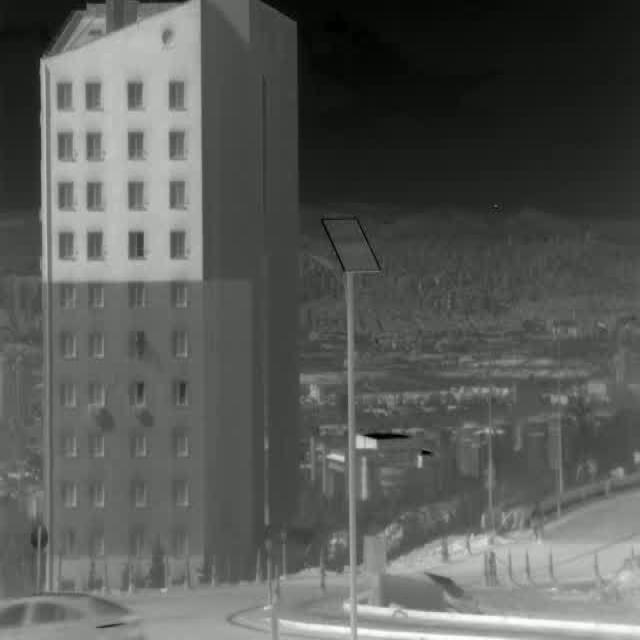Car: (0, 592, 141, 640)
Motorcycle: (528, 504, 550, 544)
